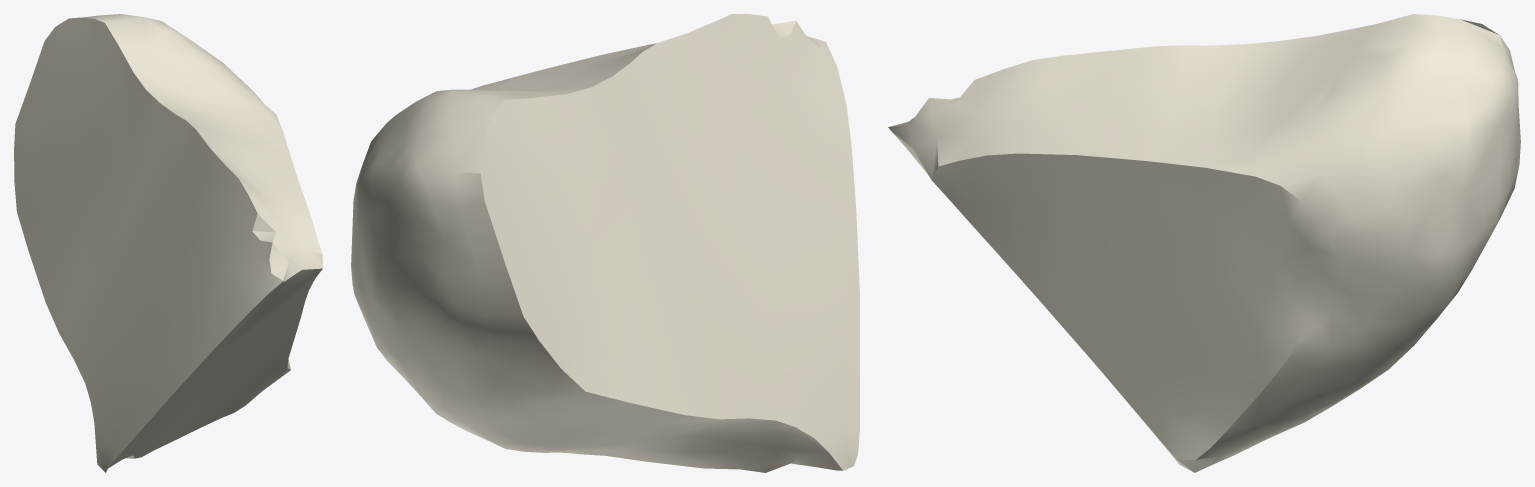
Rendered from fma16319_mm2368.glb.
3 renders of one model, left to right at view 1: azimuth 30°, elevation 25°; view 2: azimuth 150°, elevation 25°; view 3: azimuth 270°, elevation 25°, orthographic. The views are drawn at different scales.
Visible parts, largest first — view 1: FMA16319_MM2368; view 2: FMA16319_MM2368; view 3: FMA16319_MM2368.
Boxes of the visible parts, left/top/right/bottom form: FMA16319_MM2368: left=14, top=14, right=322, bottom=472; FMA16319_MM2368: left=351, top=14, right=859, bottom=472; FMA16319_MM2368: left=888, top=14, right=1520, bottom=472.
Size of the model in its own units: 0.00827 by 0.0105 by 0.014.
